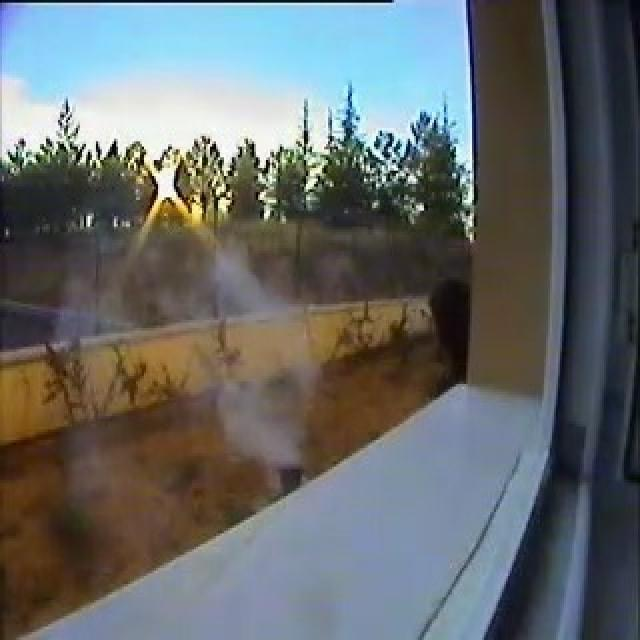smoke: (197, 375, 306, 465)
